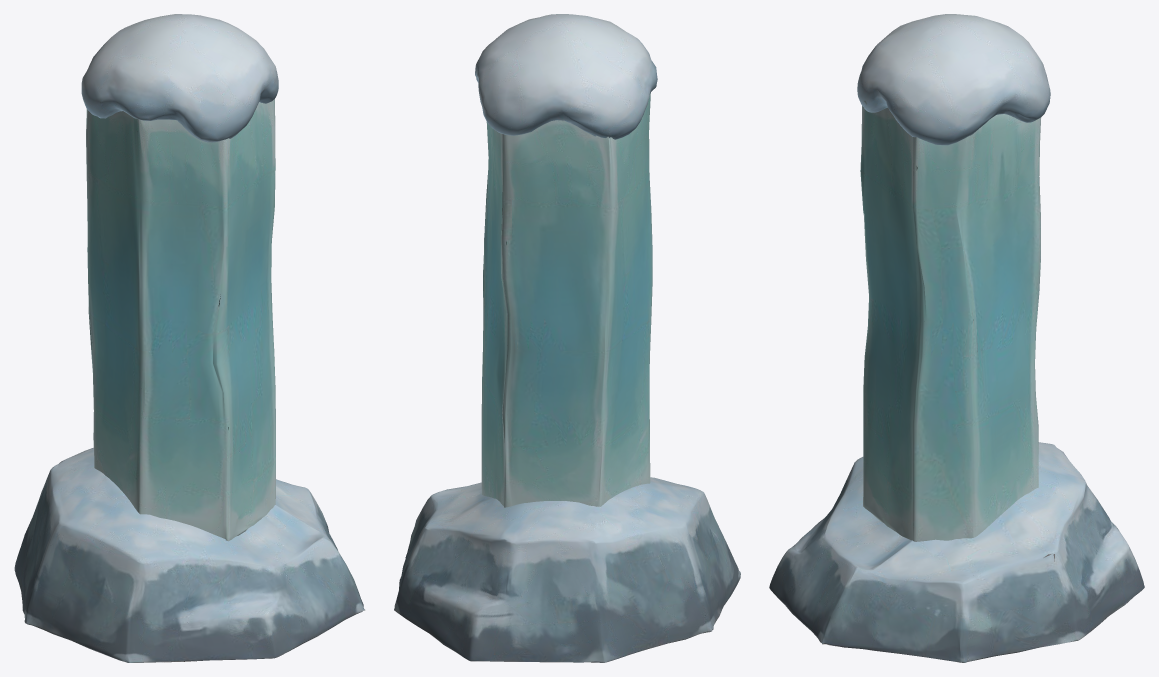
Rendered from pillar_b.glb.
3 views of the same model, side by side, from view 1: azimuth 30°, elevation 25°; view 2: azimuth 150°, elevation 25°; view 3: azimuth 270°, elevation 25° (orthographic).
Visible parts, largest first — view 1: geometry_0; view 2: geometry_0; view 3: geometry_0.
Part boxes in pixels (x1,y1,x2,y2): geometry_0: (14,14,364,662); geometry_0: (394,14,740,662); geometry_0: (769,14,1144,662).
Bounding box in the file's own units: 0.5361 × 0.9512 × 0.5728.
Materials: 1 (1 with a texture image).
